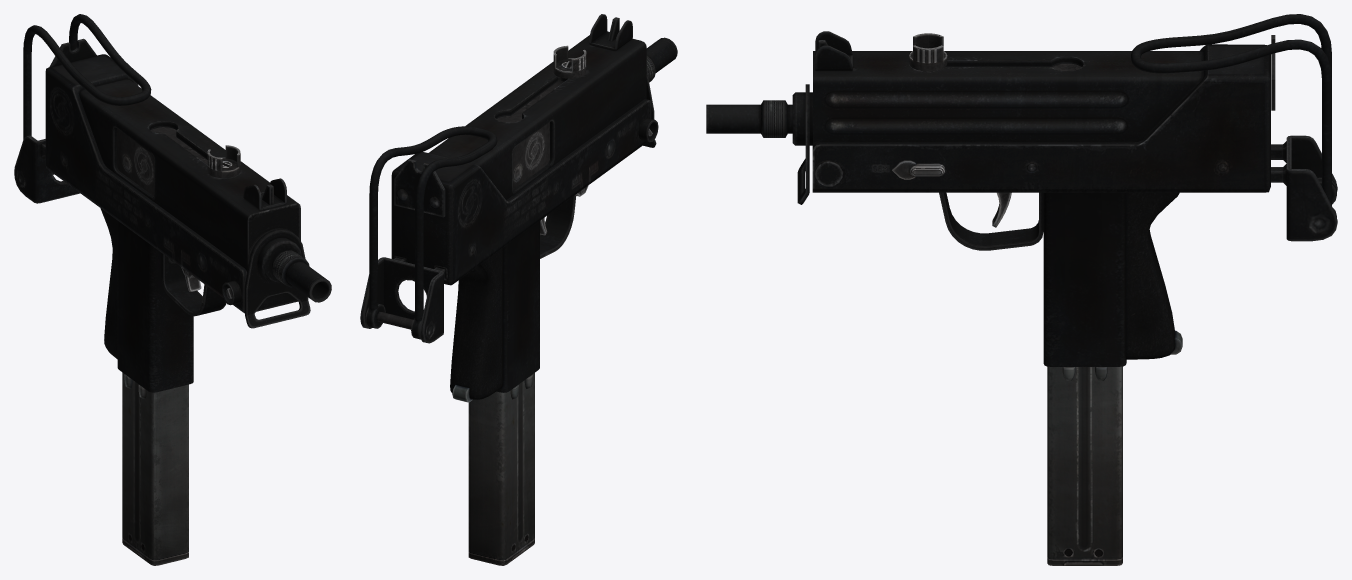
File: MAC-11.glb
The picture shows the model from 3 angles, left to right: view 1: azimuth 30°, elevation 25°; view 2: azimuth 150°, elevation 25°; view 3: azimuth 270°, elevation 25°; orthographic projection. The views are drawn at different scales.
Parts seen in each view (by area): view 1: gun, magazine, stock2, stock, frame, grip; view 2: gun, magazine, stock2, stock, frame, grip; view 3: gun, magazine, stock2, stock, grip.
Part boxes in pixels (x1,y1,x2,y2): gun: (45, 38, 331, 392); magazine: (122, 372, 188, 565); stock2: (23, 14, 151, 174); stock: (14, 135, 80, 203); frame: (117, 129, 154, 195); grip: (151, 127, 240, 178); gun: (391, 14, 677, 402); magazine: (468, 373, 534, 565); stock2: (365, 126, 497, 339); stock: (360, 257, 445, 343); frame: (513, 122, 549, 189); grip: (497, 45, 586, 122); gun: (706, 31, 1275, 366); magazine: (1047, 366, 1122, 565); stock2: (1131, 14, 1336, 216); stock: (1271, 135, 1337, 241); grip: (909, 33, 1081, 71).
Bounding box in the file's own units: 1.6 × 9.13 × 9.88.
Materials: 1 (1 with a texture image).
